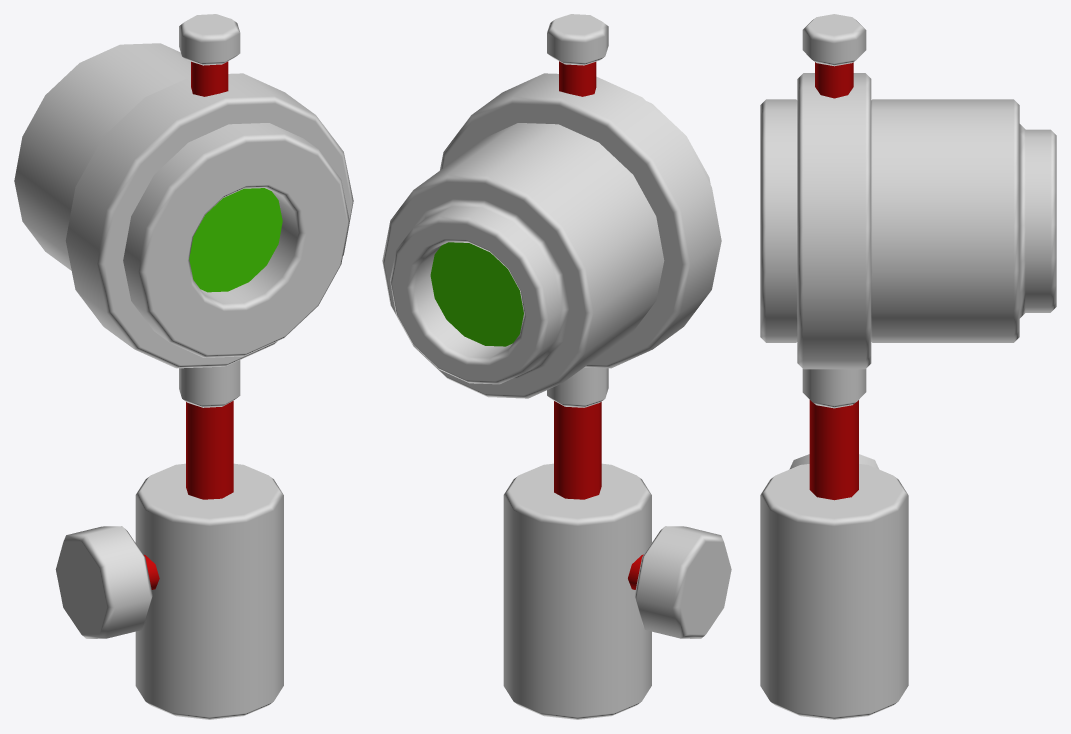
The model's file is Optic01c.fbx.
3 renders of one model, left to right at view 1: azimuth 30°, elevation 25°; view 2: azimuth 150°, elevation 25°; view 3: azimuth 270°, elevation 25°, orthographic.
Parts seen in each view (by area): view 1: Optic01c; view 2: Optic01c; view 3: Optic01c.
Part boxes in pixels (x1,y1,x2,y2): Optic01c: [14, 14, 353, 719]; Optic01c: [382, 14, 731, 719]; Optic01c: [760, 14, 1056, 719].
Size of the model in its own units: 5 by 5 by 12.41.
